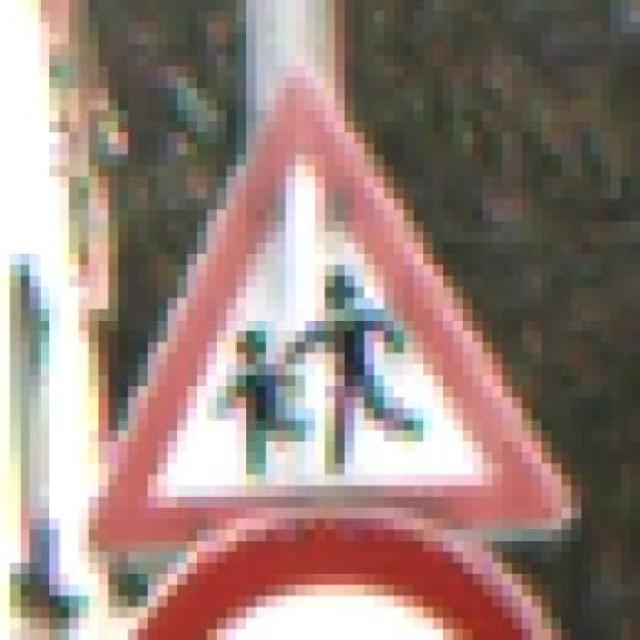Beware of children: (59, 55, 590, 563)
